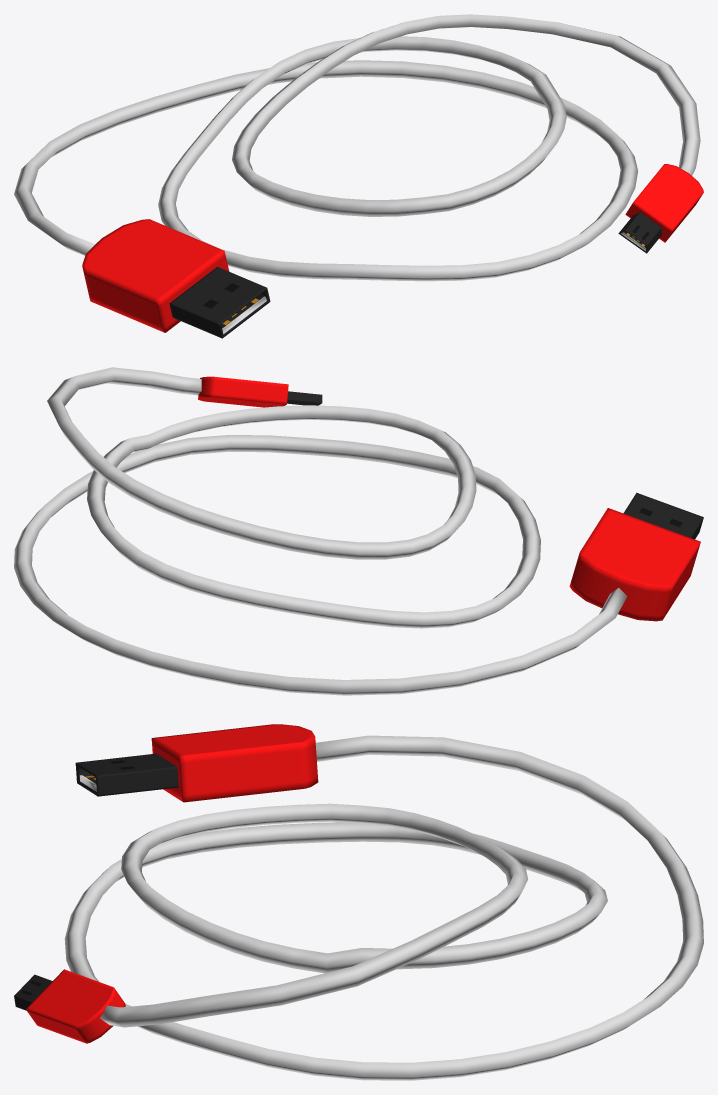
The model's file is USB_cable_1.FBX.
3 renders of one model, top to bottom at view 1: azimuth 30°, elevation 25°; view 2: azimuth 150°, elevation 25°; view 3: azimuth 270°, elevation 25°, orthographic. The views are drawn at different scales.
Parts seen in each view (by area): view 1: USB_cable_1; view 2: USB_cable_1; view 3: USB_cable_1.
Boxes of the visible parts, x1,y1,x2,y2 form: USB_cable_1: (14, 14, 703, 338); USB_cable_1: (14, 367, 703, 695); USB_cable_1: (14, 724, 703, 1080).
Bounding box in the file's own units: 1937 × 351 × 1649.
